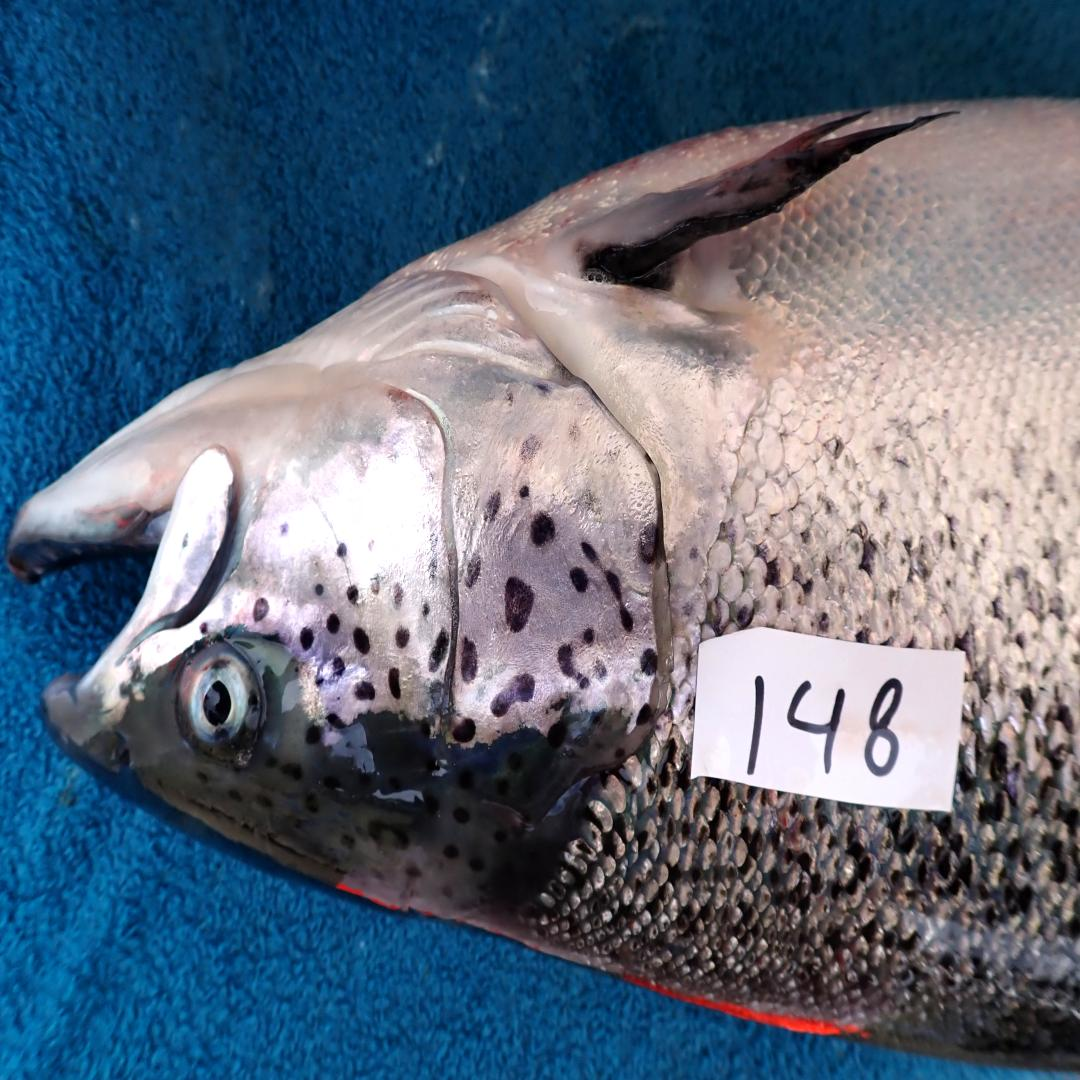roi: (240, 262, 664, 746)
